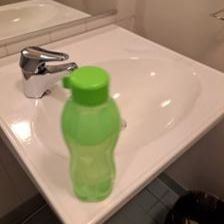bottle: (58, 62, 124, 204)
